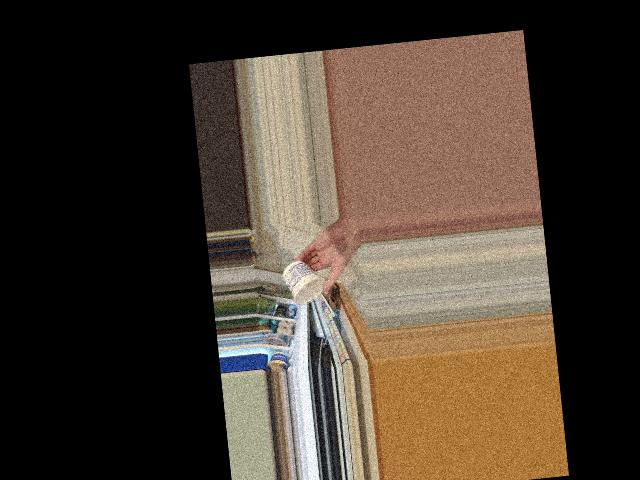cotage: (283, 261, 329, 306)
